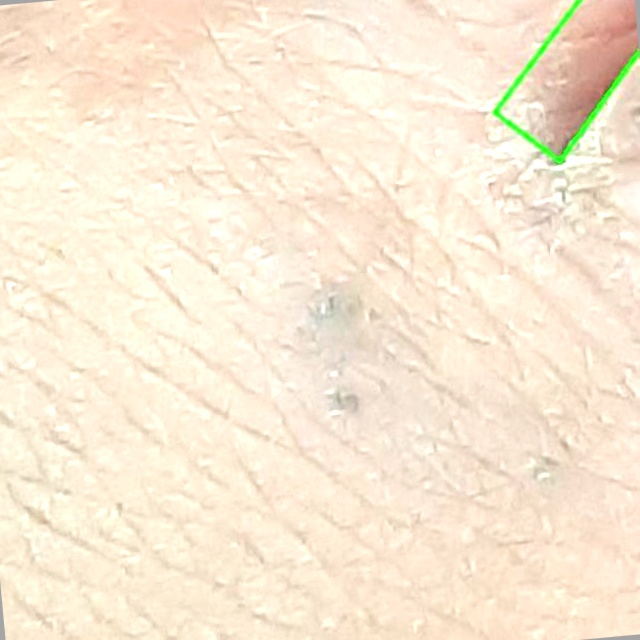Eczema: (489, 0, 635, 161)
